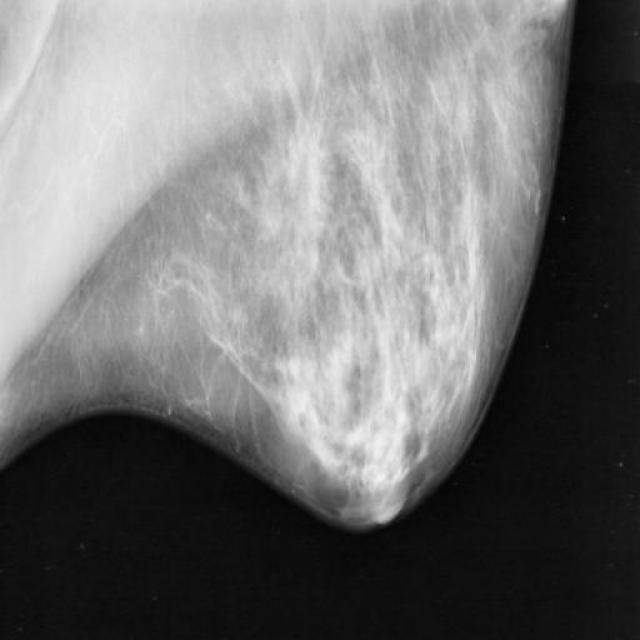cancer: (261, 335, 319, 473)
